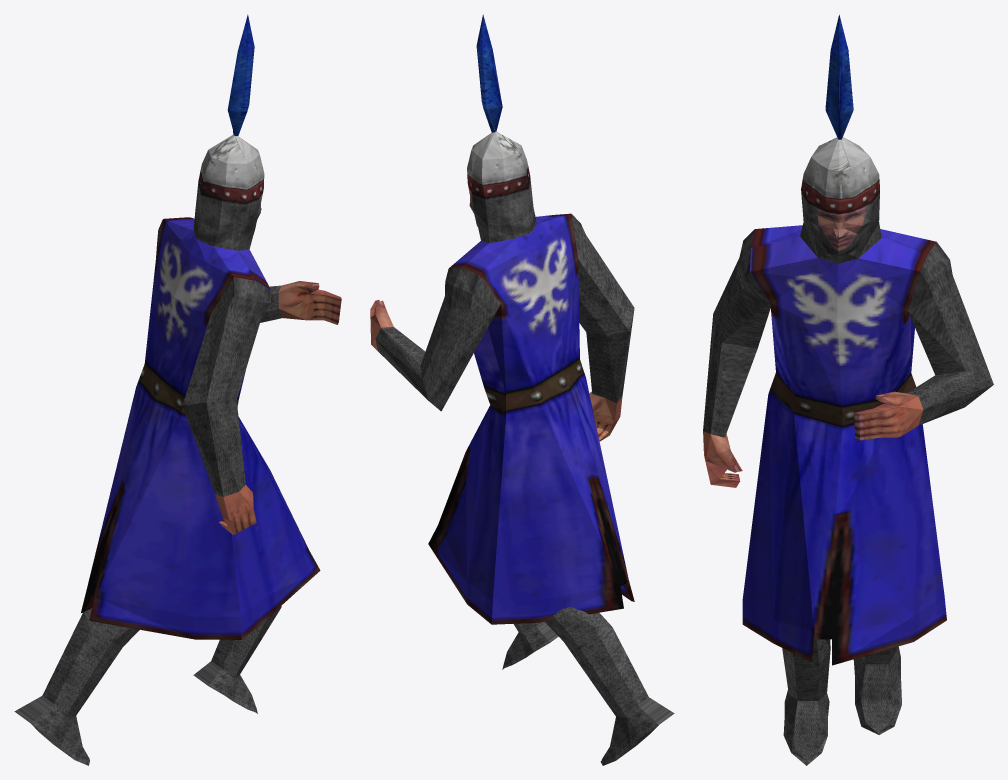
File: guard_run17.obj
3 views of the same model, side by side, from view 1: azimuth 30°, elevation 25°; view 2: azimuth 150°, elevation 25°; view 3: azimuth 270°, elevation 25° (orthographic). The views are drawn at different scales.
Visible parts, largest first — view 1: Object_1; view 2: Object_1; view 3: Object_1.
Part boxes in pixels (box(x1,y1,x2,y2)): Object_1: box(14, 14, 341, 765); Object_1: box(370, 14, 674, 765); Object_1: box(703, 14, 993, 765).
Size of the model in its own units: 0.9891 by 2.21 by 0.733.
Materials: 1 (1 with a texture image).
